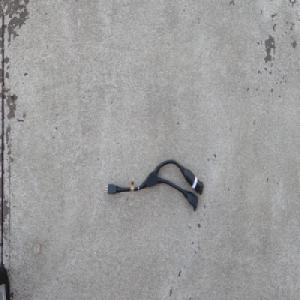Wire: (103, 159, 204, 212)
